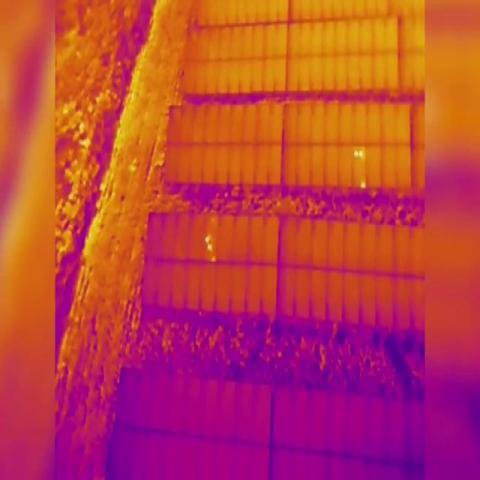fault: (358, 178, 366, 190), (203, 233, 210, 244), (210, 253, 216, 264), (354, 147, 359, 160), (359, 147, 364, 160), (208, 240, 212, 252)
